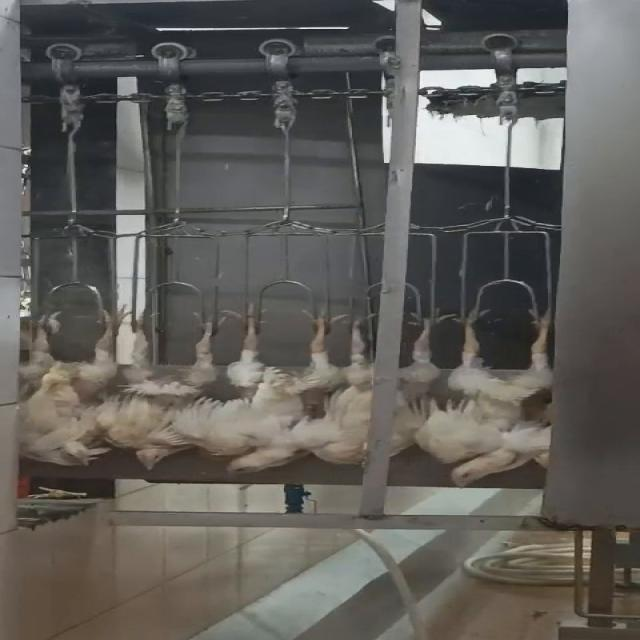chicken: (217, 306, 387, 480), (311, 304, 469, 467), (434, 298, 557, 486), (101, 302, 227, 470), (5, 302, 123, 468)
